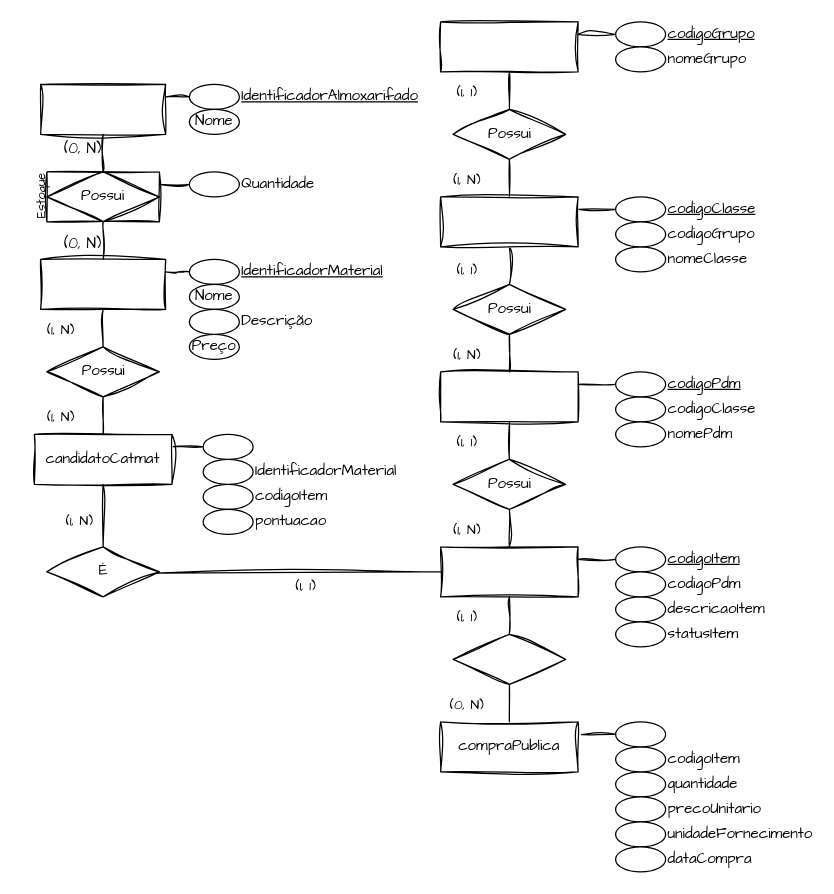
This 834x894 diagram has some shape labels left out. The shapes that lost their labels are listed below. From the top down, each one's centre as x and y in pixels, then its label:
At point (508, 46): "catmatGrupo".
At point (102, 108): "Almoxarifado".
At point (508, 221): "catmatClasse".
At point (102, 283): "Material".
At point (508, 396): "catmatPdm".
At point (227, 446): "IdentificadorCandidato".
At point (508, 571): "catmatItem".
At point (509, 658): "Contém".
At point (640, 734): "identificadorCompra".
